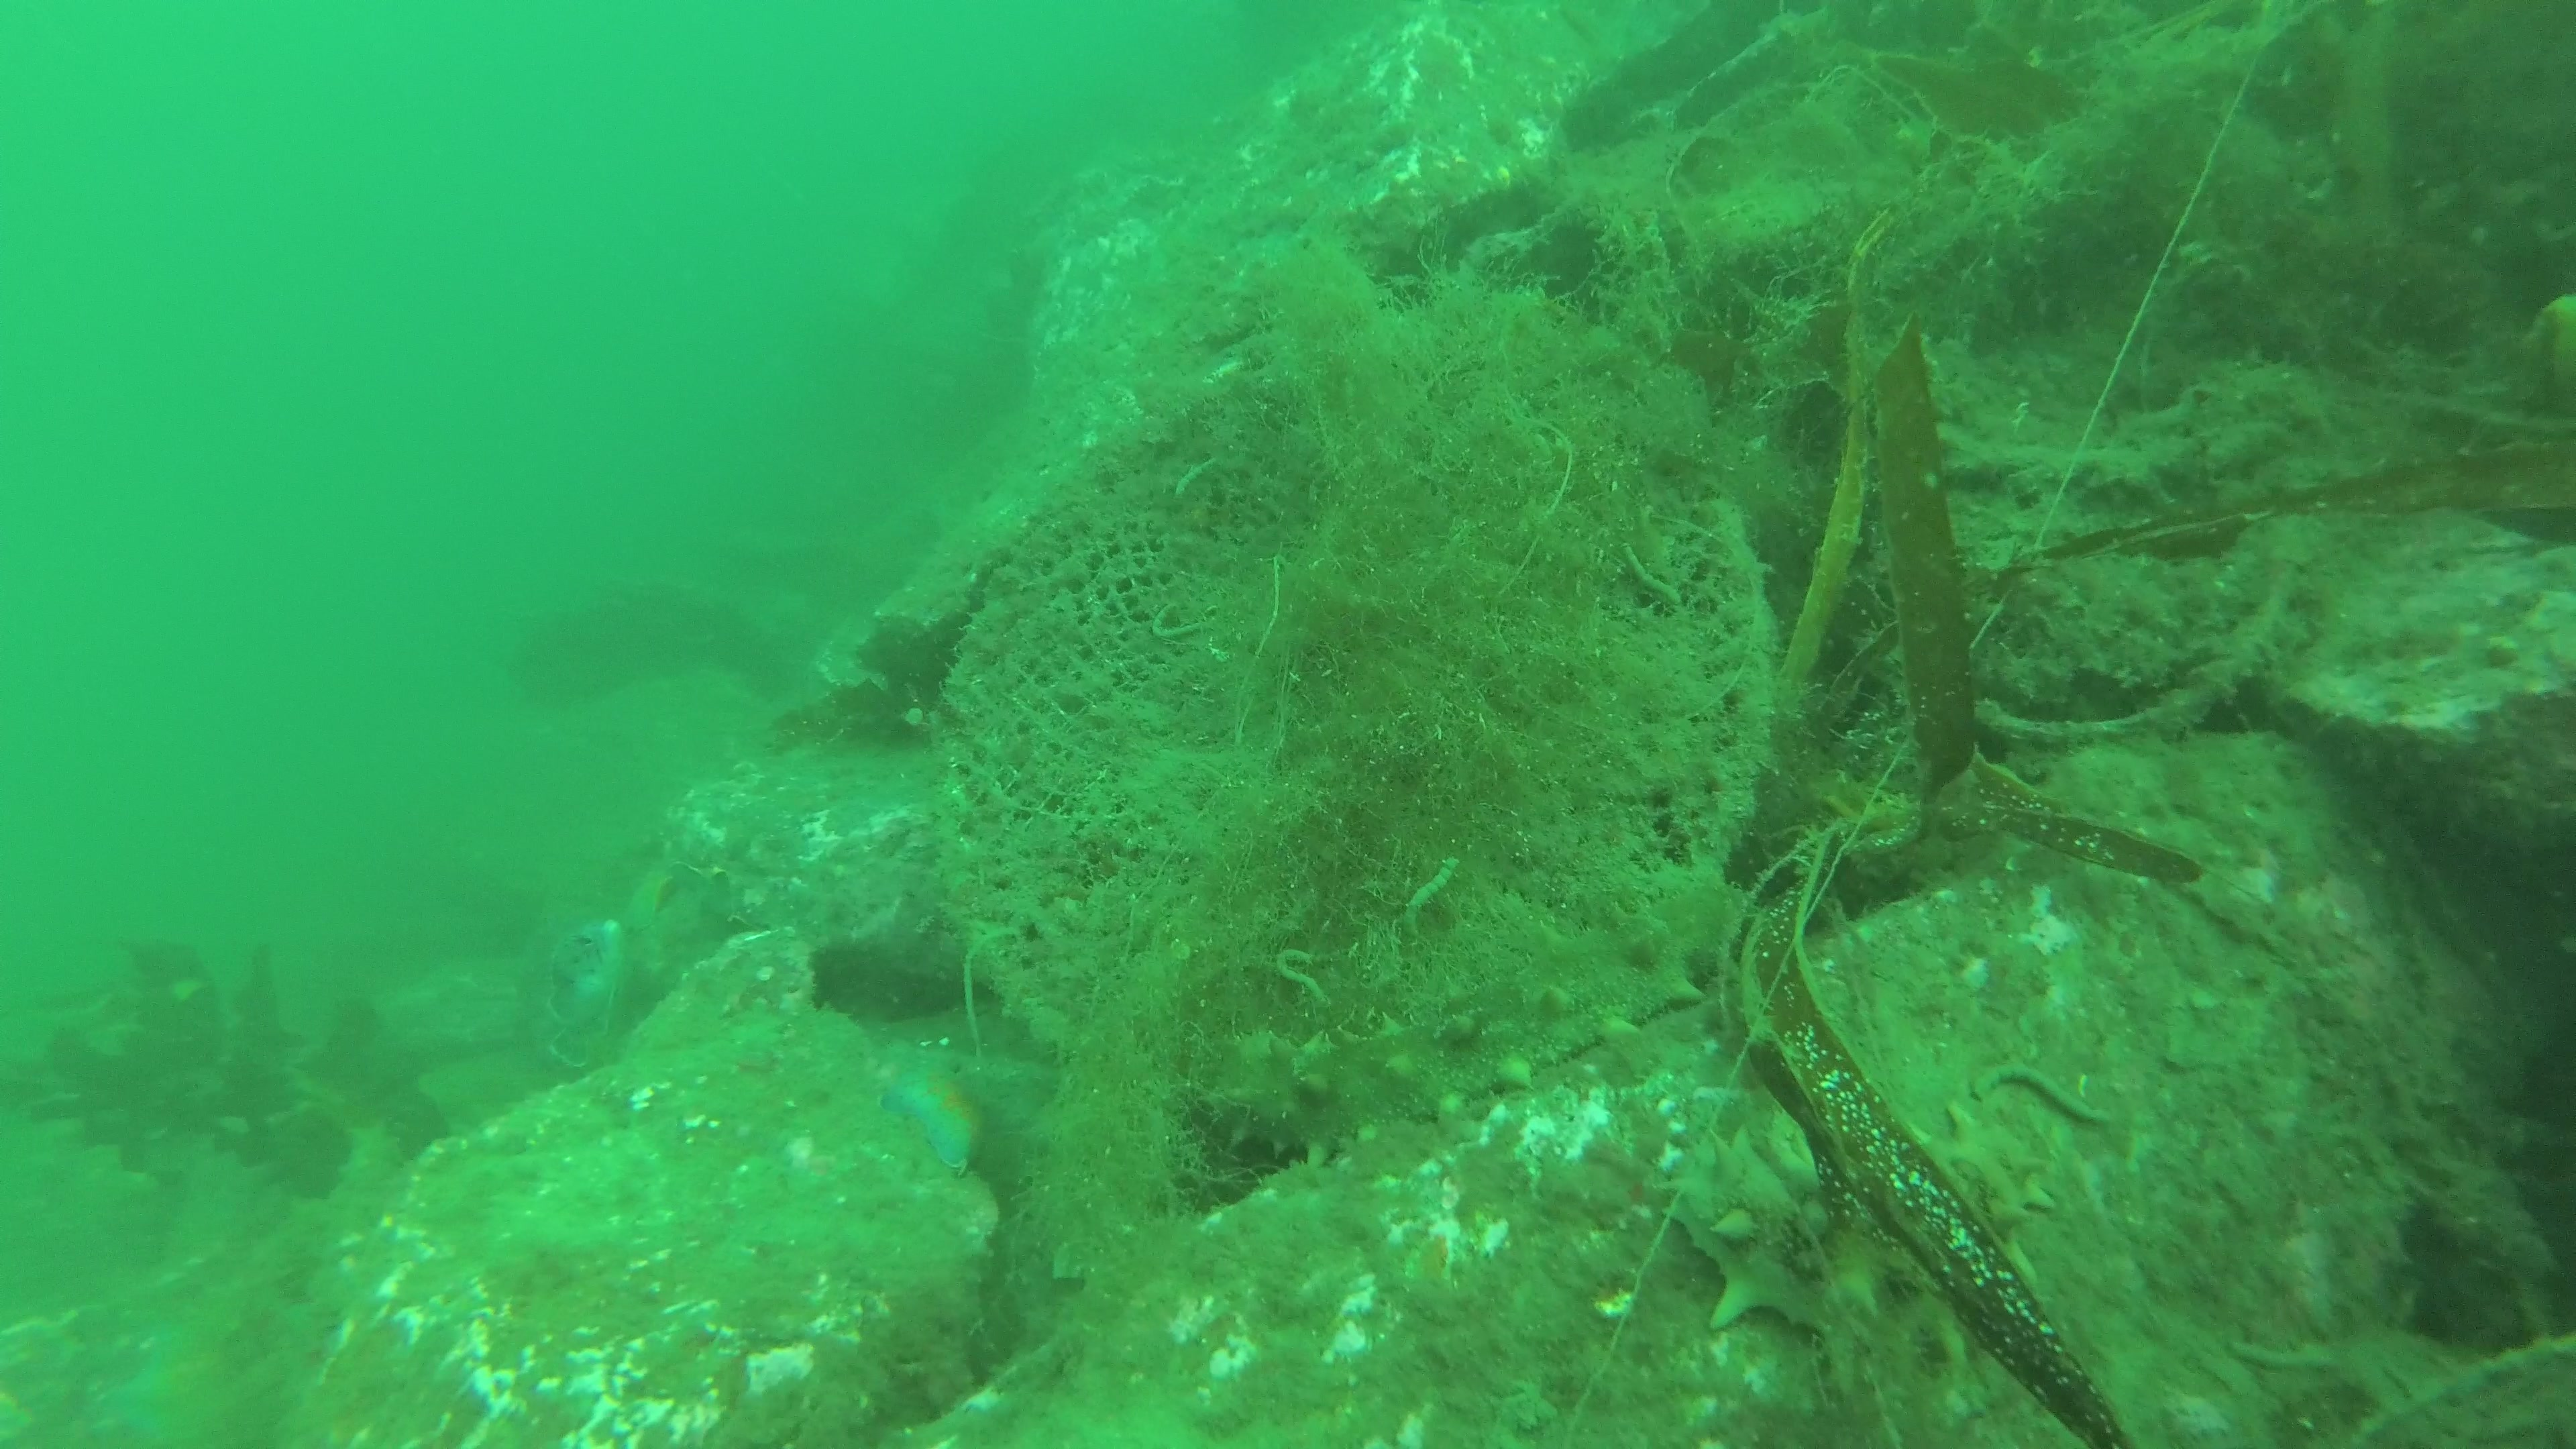holothurian: (1214, 867, 1746, 1164), (1665, 1102, 2052, 1355)
starfish: (879, 1072, 980, 1178)
